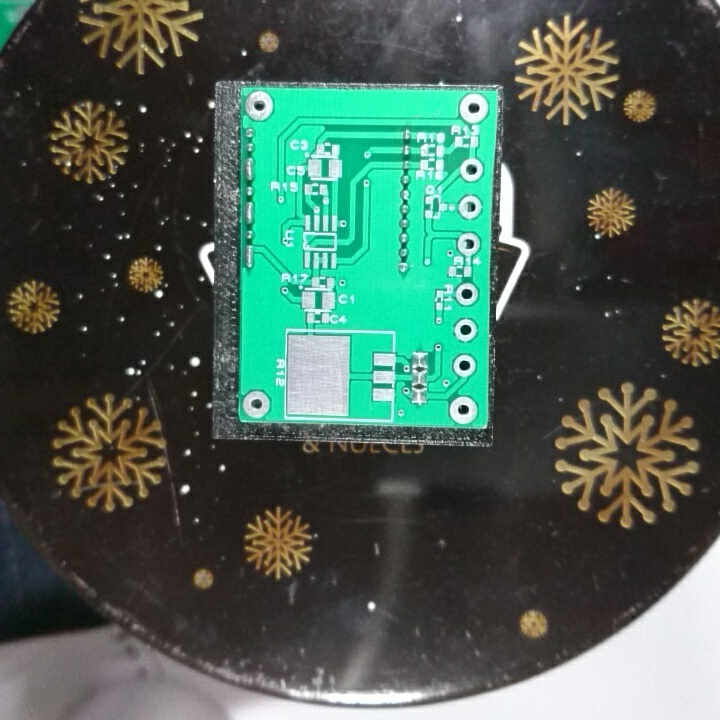F: (243, 87, 276, 124), (457, 92, 491, 125), (448, 395, 481, 426), (241, 387, 273, 418), (456, 192, 486, 223), (459, 156, 487, 186), (451, 352, 479, 381), (451, 316, 479, 344), (455, 231, 483, 258), (453, 281, 481, 307)
P: (242, 242, 256, 270), (242, 198, 256, 225), (245, 155, 257, 185)
